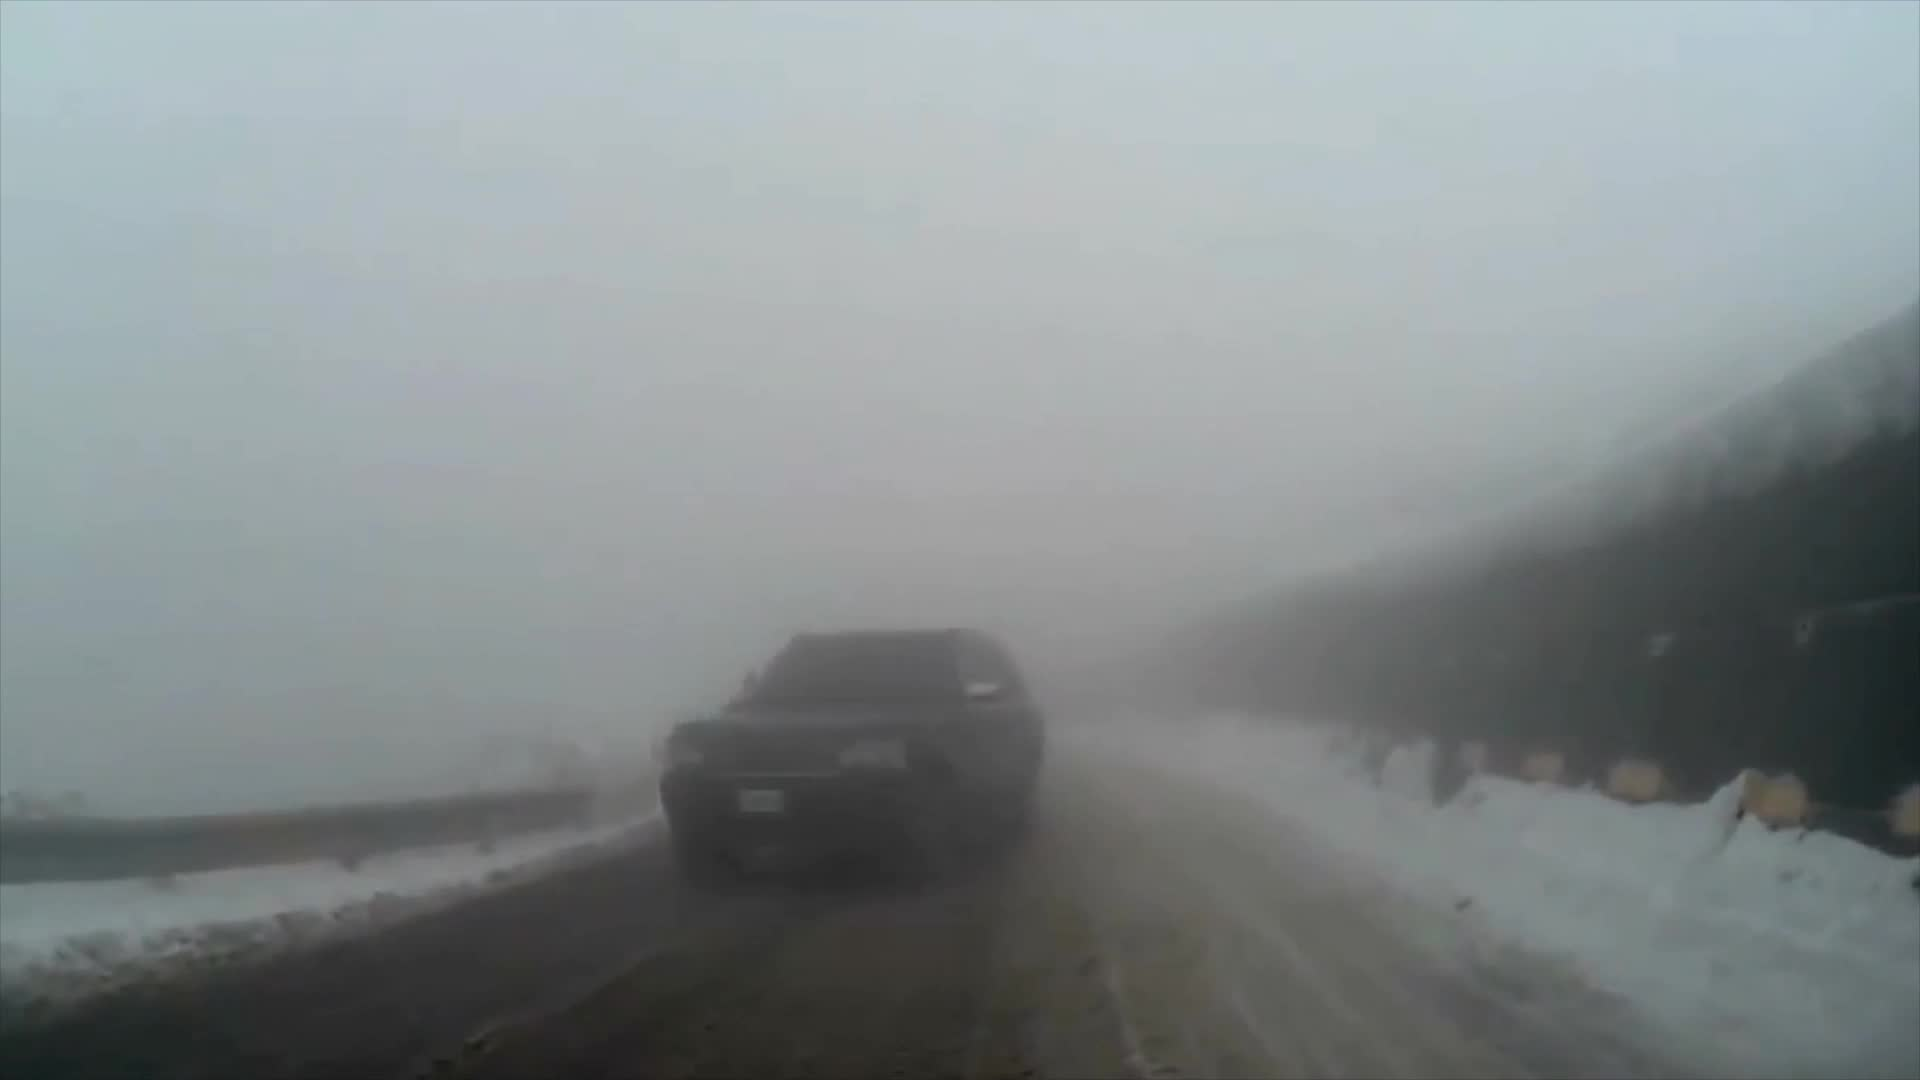vehicle: (665, 624, 1043, 893)
